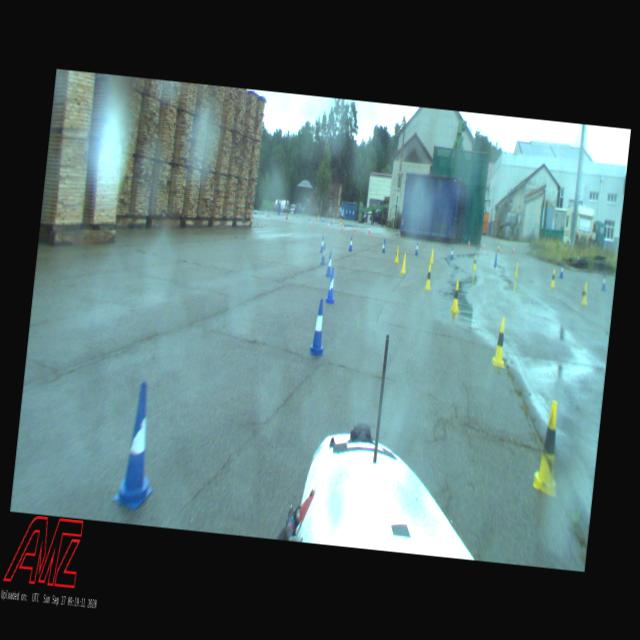blue_cone: (112, 380, 163, 510), (308, 298, 328, 354), (325, 267, 337, 303), (326, 251, 334, 276), (320, 243, 327, 264), (600, 273, 606, 291), (319, 235, 325, 252), (348, 236, 353, 252), (559, 262, 564, 278), (493, 252, 498, 268), (381, 238, 386, 252), (449, 247, 454, 260), (414, 240, 418, 254)
orange_cone: (326, 220, 329, 230), (353, 224, 356, 232), (496, 243, 499, 251), (467, 240, 470, 247), (512, 244, 514, 254), (368, 224, 370, 233), (482, 241, 484, 250), (342, 223, 344, 231)
yellow_cone: (531, 398, 565, 497), (490, 316, 509, 368), (448, 280, 462, 314), (423, 262, 432, 290), (580, 282, 589, 306), (400, 252, 408, 274), (548, 267, 556, 288), (394, 245, 400, 262), (513, 262, 519, 278), (472, 253, 477, 270), (430, 248, 434, 263)
